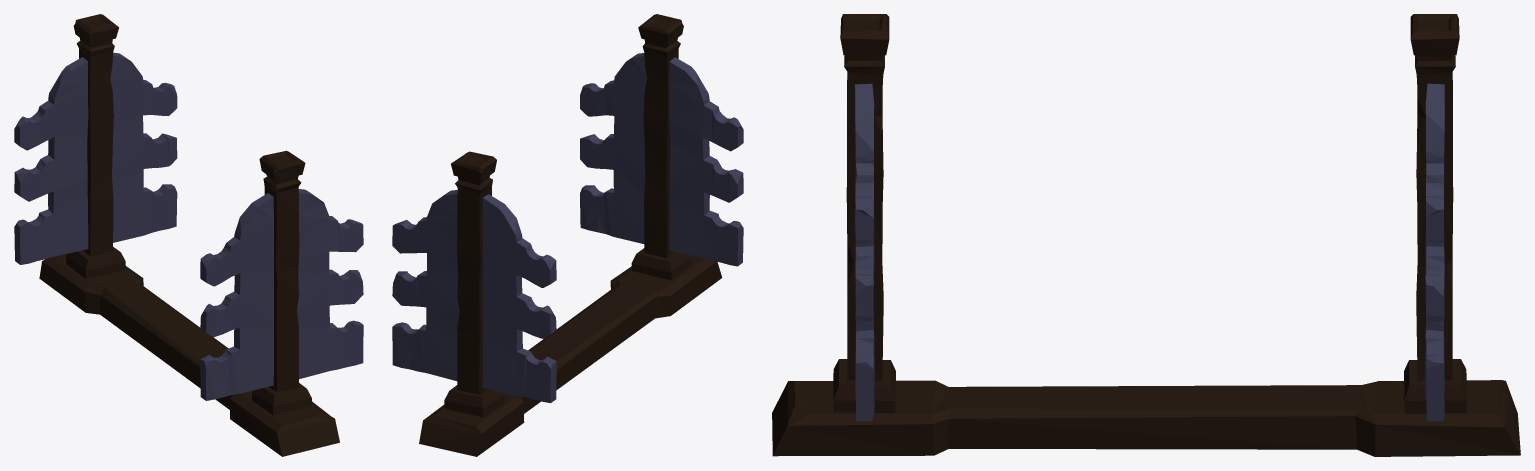
Rendered from SFFA_Weapon_Rack_001.fbx.
3 renders of one model, left to right at view 1: azimuth 30°, elevation 25°; view 2: azimuth 150°, elevation 25°; view 3: azimuth 270°, elevation 25°, orthographic. The views are drawn at different scales.
Parts seen in each view (by area): view 1: SFFA_Weapon_Rack_001; view 2: SFFA_Weapon_Rack_001; view 3: SFFA_Weapon_Rack_001.
Part boxes in pixels (<box>): SFFA_Weapon_Rack_001: <box>14,14,363,456</box>; SFFA_Weapon_Rack_001: <box>392,14,743,456</box>; SFFA_Weapon_Rack_001: <box>772,14,1520,456</box>.
Size of the model in its own units: 52.84 by 86.09 by 142.
